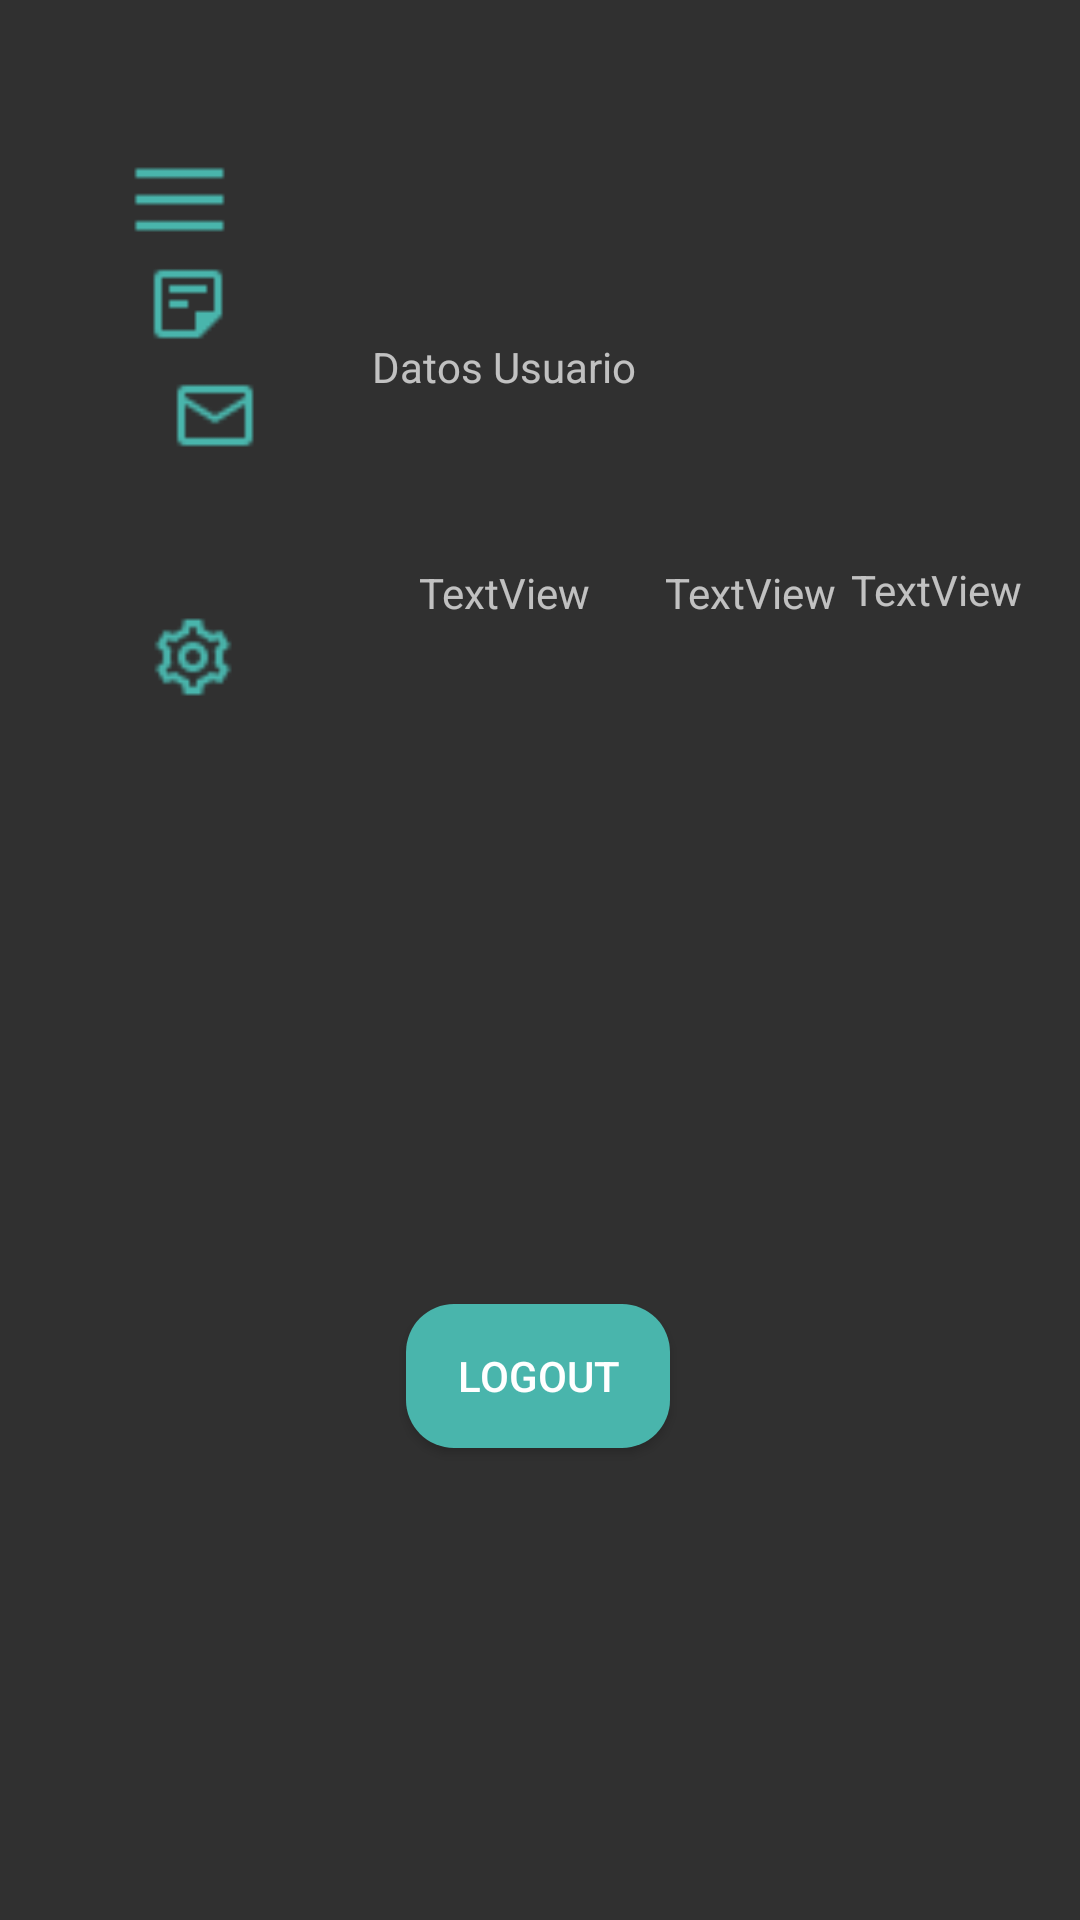

Screen size 1080 x 1920. Icon name, then its center in pixels as point (x, y):
ajustesverde: point (193, 657)
mail: point (215, 415)
menu: point (179, 199)
note: point (188, 304)
